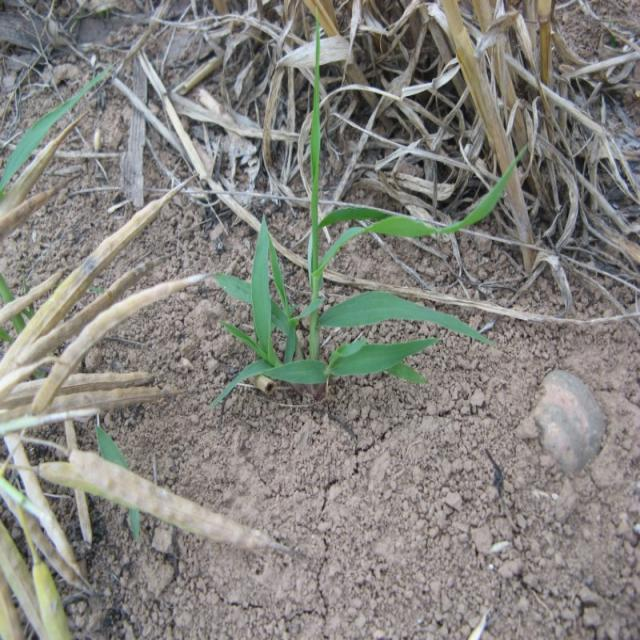bg: (214, 30, 523, 392)
